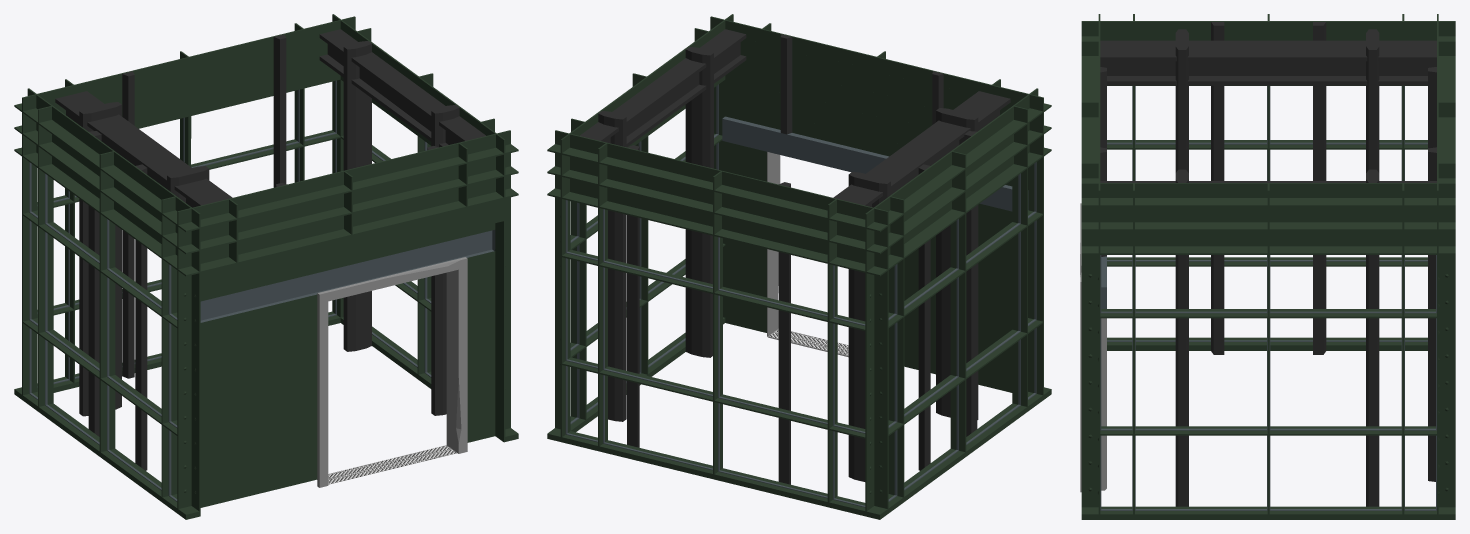
The model's file is SW_ENV_Elevator_Shaft_ELStationLevel_FF.fbx.
3 views of the same model, side by side, from view 1: azimuth 30°, elevation 25°; view 2: azimuth 150°, elevation 25°; view 3: azimuth 270°, elevation 25° (orthographic). The views are drawn at different scales.
Visible parts, largest first — view 1: SW_ENV_Elevator_Shaft_ELStationLevel_FF; view 2: SW_ENV_Elevator_Shaft_ELStationLevel_FF; view 3: SW_ENV_Elevator_Shaft_ELStationLevel_FF.
Part boxes in pixels (x1,y1,x2,y2): SW_ENV_Elevator_Shaft_ELStationLevel_FF: (14,14,518,519); SW_ENV_Elevator_Shaft_ELStationLevel_FF: (547,14,1051,519); SW_ENV_Elevator_Shaft_ELStationLevel_FF: (1080,14,1455,519).
Size of the model in its own units: 472 by 413 by 423.
